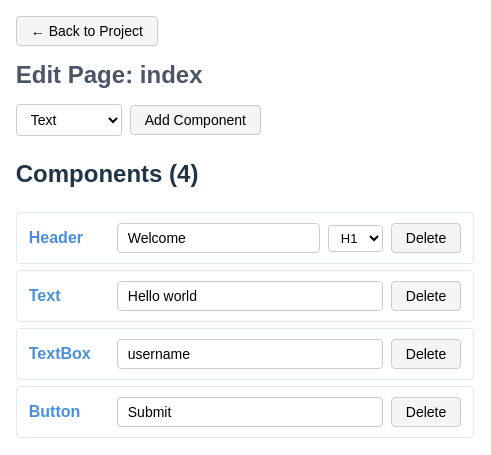
Scenario: PageEditor deletes a component
Click the button "Delete" in the row of "Header": (426, 238) [391,223,461,253]
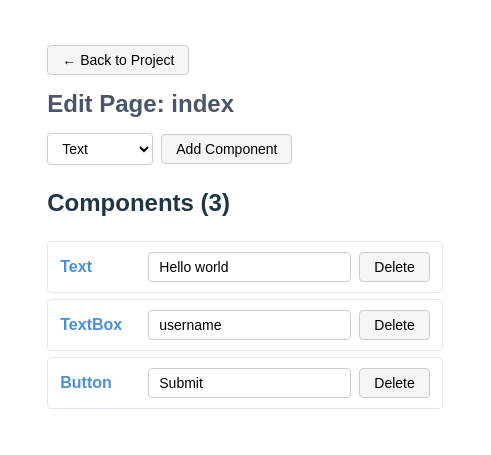
Result: the number of buttons "Delete" is 3 at [359,252,430,282]; [359,310,430,340]; [359,368,430,398]
